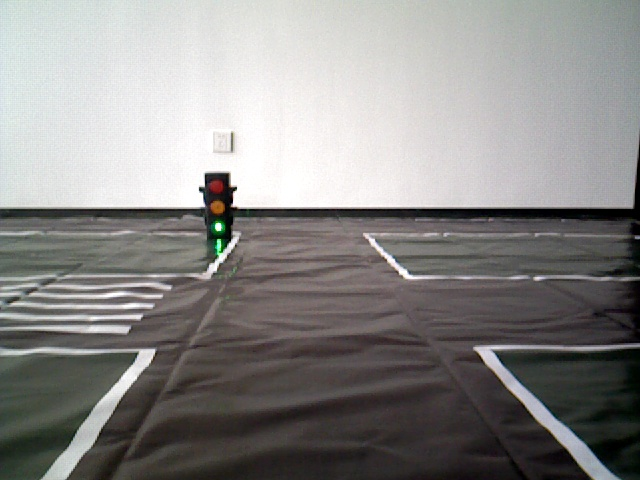green: (201, 174, 231, 233)
